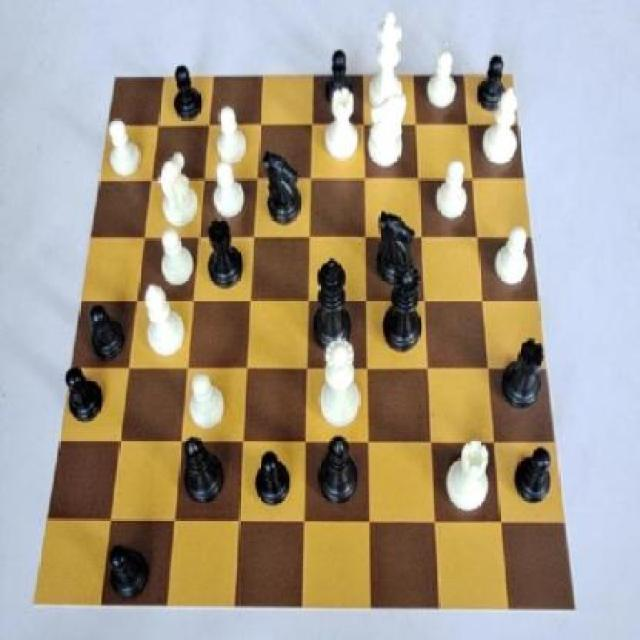bishop: (311, 418, 372, 509), (174, 428, 231, 512)
black-bishop: (311, 249, 357, 357)
black-king: (371, 202, 423, 296), (257, 143, 309, 234)
black-knight: (511, 432, 562, 518), (103, 537, 159, 605), (250, 440, 298, 518), (57, 362, 111, 428), (83, 297, 134, 366), (471, 46, 514, 120), (165, 57, 208, 127), (316, 43, 356, 109)
black-pawn: (378, 248, 432, 357)
black-queen: (496, 326, 552, 420), (202, 211, 246, 297)
black-rook: (137, 276, 189, 366), (478, 78, 524, 171)
white-bishop: (364, 6, 412, 118)
white-king: (148, 148, 205, 233), (363, 83, 409, 171)
white-knight: (185, 359, 232, 436), (200, 155, 252, 223), (152, 220, 201, 292), (100, 111, 146, 186), (429, 151, 474, 225), (209, 100, 254, 172), (491, 217, 533, 293), (422, 37, 462, 112)
white-pawn: (317, 328, 369, 432)
white-queen: (437, 422, 495, 522), (323, 84, 363, 164)
